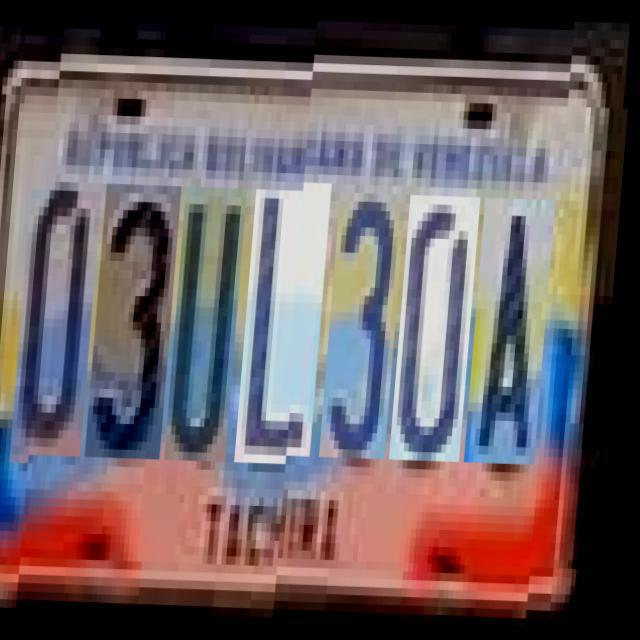0: (19, 172, 106, 447), (396, 192, 484, 458)
3: (94, 174, 185, 449), (326, 190, 408, 456)
A: (472, 194, 558, 461)
L: (243, 178, 335, 454)
U: (172, 176, 250, 451)
